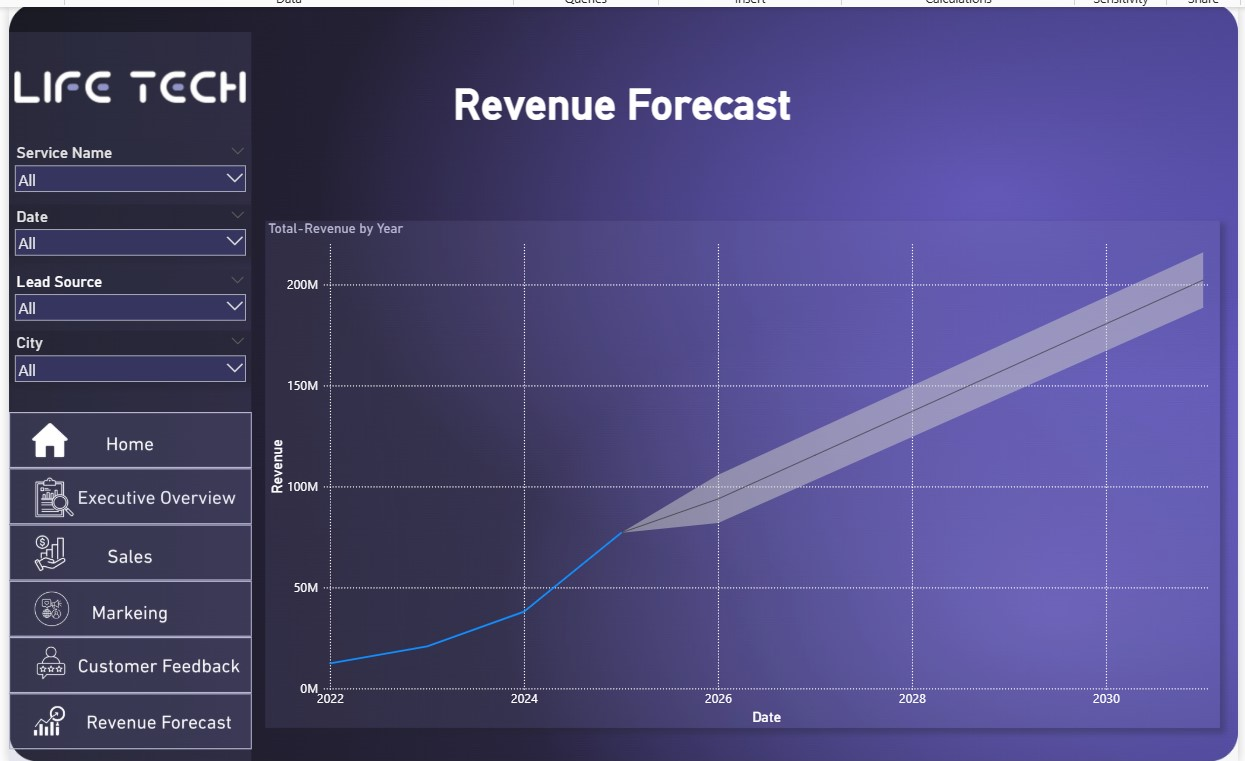

This screenshot's page, from the dashboard's own definition file:
{"tool":"powerbi","page":{"name":"Forcasting","canvas":[2100,1250],"ordinal":6},"visuals":[{"type":"lineChart","fields":{"Y":["DAX-Measures.Total-Revenue"],"Category":["Calender.Year","Calender.Quarter","Calender.Month"]},"box":[438.3,321.8,1632.1,867.4],"z":0},{"type":"textbox","box":[721.3,77.6,657.4,95.9],"z":1000},{"type":"shape","box":[0,0,414.7,1248.3],"z":2000},{"type":"slicer","fields":{"Values":["DimCity.City"]},"box":[0,510.1,415,89.9],"z":3000},{"type":"slicer","fields":{"Values":["Calender.Year","Calender.Quarter","Calender.Month"]},"box":[0,294.4,415,89.9],"z":4000},{"type":"slicer","fields":{"Values":["DimServiceName.ServiceName"]},"box":[0,186.5,415,89.9],"z":5000},{"type":"slicer","fields":{"Values":["DimLeadSource.LeadSource"]},"box":[0,406.1,414.7,89.8],"z":6000},{"type":"image","box":[0,650.4,413.7,95.7],"z":7000},{"type":"image","box":[0,746.1,413.7,95.7],"z":8000},{"type":"image","box":[0,841.7,413.7,95.7],"z":9000},{"type":"image","box":[0,937.4,413.7,95.7],"z":10000},{"type":"image","box":[0,1033,413.7,95.7],"z":11000},{"type":"image","box":[0,1128.7,413.7,95.7],"z":12000},{"type":"image","box":[9.6,0,397,186.5],"z":13000},{"type":"actionButton","box":[0,650.5,415.4,95.9],"z":14000},{"type":"actionButton","box":[0,746.4,415.4,95.9],"z":15000},{"type":"actionButton","box":[0,842.3,415.4,95.9],"z":16000},{"type":"actionButton","box":[0,938.2,415.4,95.9],"z":17000},{"type":"actionButton","box":[0,1034,415.4,95.9],"z":18000},{"type":"actionButton","box":[0,1129.9,415.4,95.9],"z":19000}]}

Visuals, with their boxes on the page's 2100x1250 design canvas (x1, y1, x2, y2). These are canvas units, not pixel positions in the 1245x761 screenshot, which may show the page scaled, cropped or inside an application window:
lineChart - DAX-Measures.Total-Revenue x Calender.Year: locate(438, 322, 2070, 1189)
textbox: locate(721, 78, 1379, 174)
shape: locate(0, 0, 415, 1248)
slicer - DimCity.City: locate(0, 510, 415, 600)
slicer - Calender.Year x Calender.Quarter: locate(0, 294, 415, 384)
slicer - DimServiceName.ServiceName: locate(0, 186, 415, 276)
slicer - DimLeadSource.LeadSource: locate(0, 406, 415, 496)
image: locate(0, 650, 414, 746)
image: locate(0, 746, 414, 842)
image: locate(0, 842, 414, 937)
image: locate(0, 937, 414, 1033)
image: locate(0, 1033, 414, 1129)
image: locate(0, 1129, 414, 1224)
image: locate(10, 0, 407, 186)
actionButton: locate(0, 650, 415, 746)
actionButton: locate(0, 746, 415, 842)
actionButton: locate(0, 842, 415, 938)
actionButton: locate(0, 938, 415, 1034)
actionButton: locate(0, 1034, 415, 1130)
actionButton: locate(0, 1130, 415, 1226)
